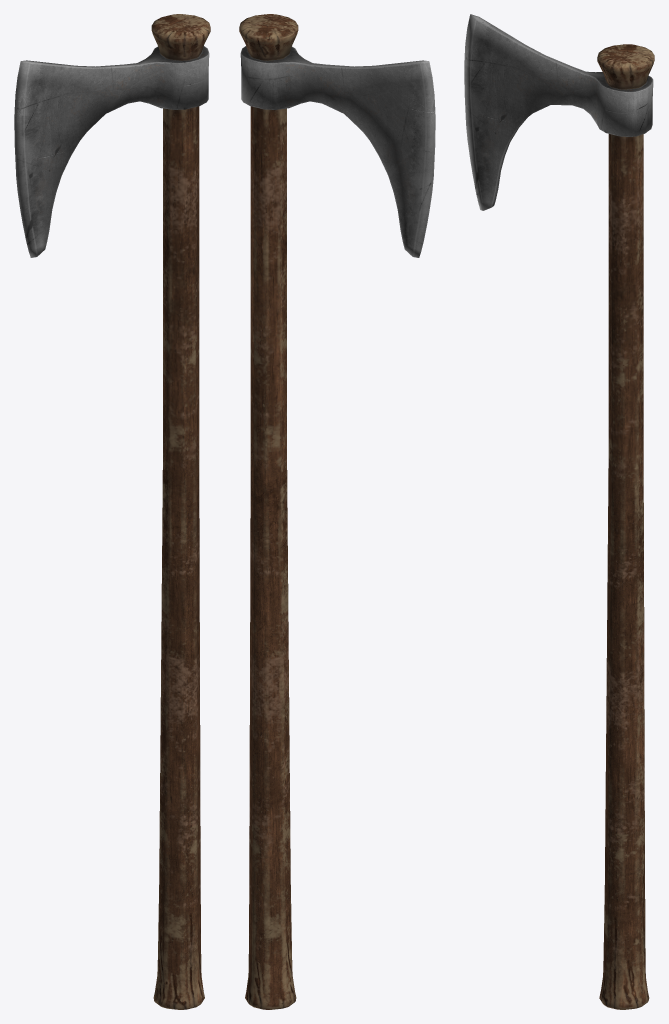
File: SM_Axe_02.fbx
The picture shows the model from 3 angles, left to right: view 1: azimuth 30°, elevation 25°; view 2: azimuth 150°, elevation 25°; view 3: azimuth 330°, elevation 25°; orthographic projection. The views are drawn at different scales.
Visible parts, largest first — view 1: SM_Axe_02_LOD0; view 2: SM_Axe_02_LOD0; view 3: SM_Axe_02_LOD0.
Part boxes in pixels (x1,y1,x2,y2): SM_Axe_02_LOD0: [14, 14, 210, 1009]; SM_Axe_02_LOD0: [239, 14, 435, 1009]; SM_Axe_02_LOD0: [464, 14, 654, 1009].
Size of the model in its own units: 17.14 by 4.49 by 83.34.
Materials: 1 (1 with a texture image).
